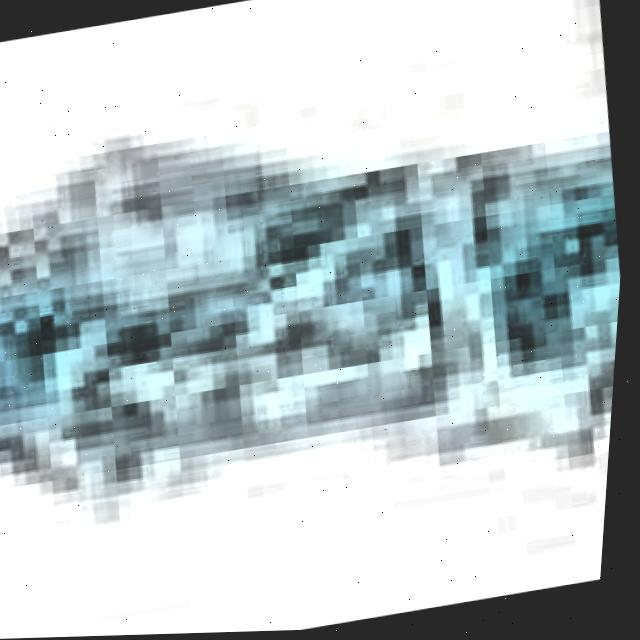plastic: (0, 0, 640, 630)
